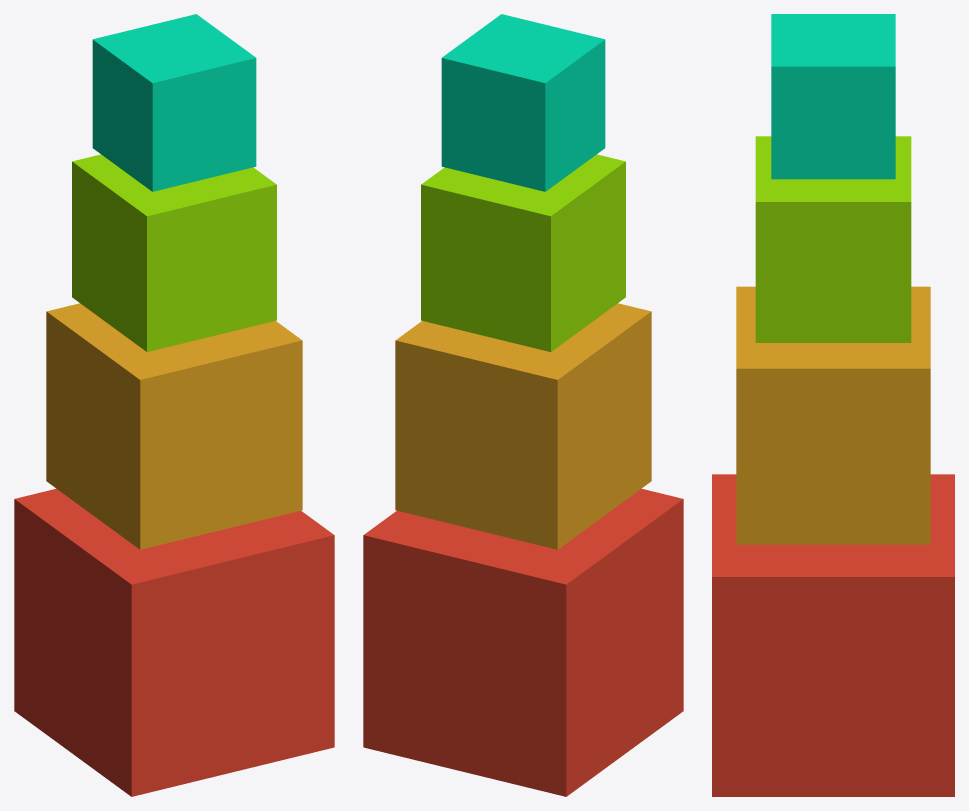
Rendered from cubes.gltf.
3 views of the same model, side by side, from view 1: azimuth 30°, elevation 25°; view 2: azimuth 150°, elevation 25°; view 3: azimuth 270°, elevation 25° (orthographic). The views are drawn at different scales.
Parts seen in each view (by area): view 1: Mesh1, Mesh2, Mesh3, Mesh4; view 2: Mesh1, Mesh2, Mesh3, Mesh4; view 3: Mesh1, Mesh2, Mesh3, Mesh4.
Boxes of the visible parts, x1,y1,x2,y2 form: Mesh1: [14, 488, 334, 796]; Mesh2: [46, 303, 302, 549]; Mesh3: [72, 154, 276, 351]; Mesh4: [92, 14, 256, 191]; Mesh1: [363, 488, 683, 796]; Mesh2: [395, 303, 651, 549]; Mesh3: [421, 154, 625, 351]; Mesh4: [441, 14, 605, 191]; Mesh1: [712, 474, 954, 796]; Mesh2: [736, 286, 930, 544]; Mesh3: [755, 136, 911, 342]; Mesh4: [771, 14, 895, 179].
Size of the model in its own units: 2 by 6.41 by 2.
